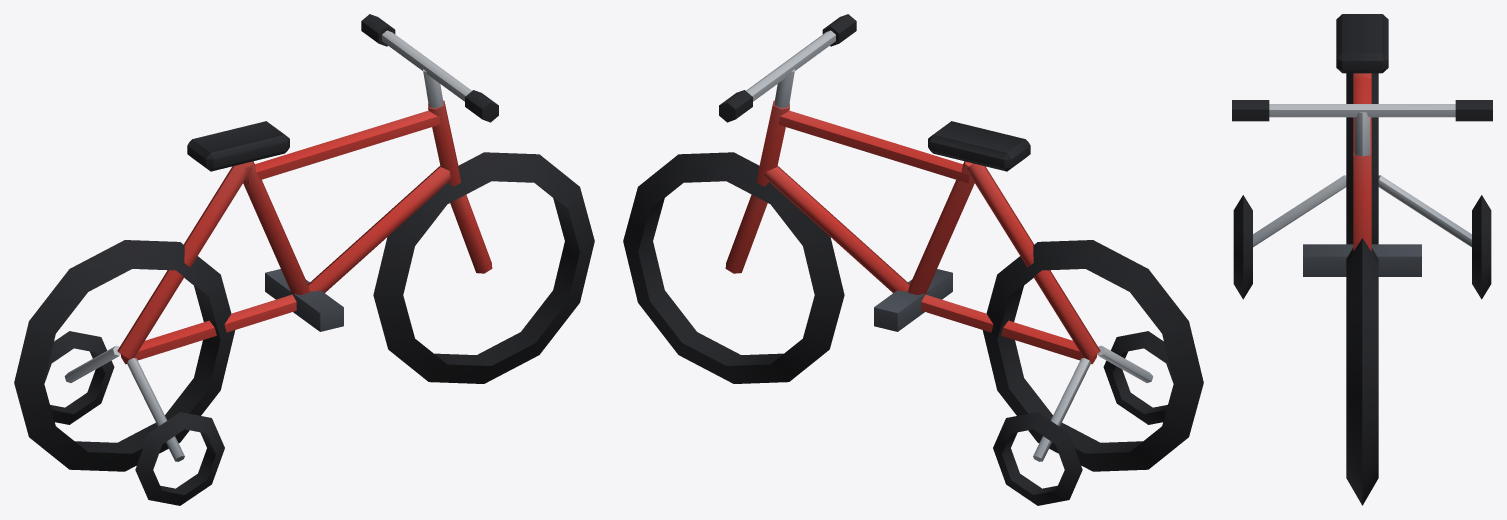
File: ck_kids_bike.fbx
3 views of the same model, side by side, from view 1: azimuth 30°, elevation 25°; view 2: azimuth 150°, elevation 25°; view 3: azimuth 270°, elevation 25° (orthographic). The views are drawn at different scales.
Visible parts, largest first — view 1: ck_kids_bike; view 2: ck_kids_bike; view 3: ck_kids_bike.
Part boxes in pixels (<box>): ck_kids_bike: <box>14,14,594,505</box>; ck_kids_bike: <box>623,14,1203,505</box>; ck_kids_bike: <box>1232,14,1492,505</box>.
Bounding box in the file's own units: 310 × 173 × 112.
